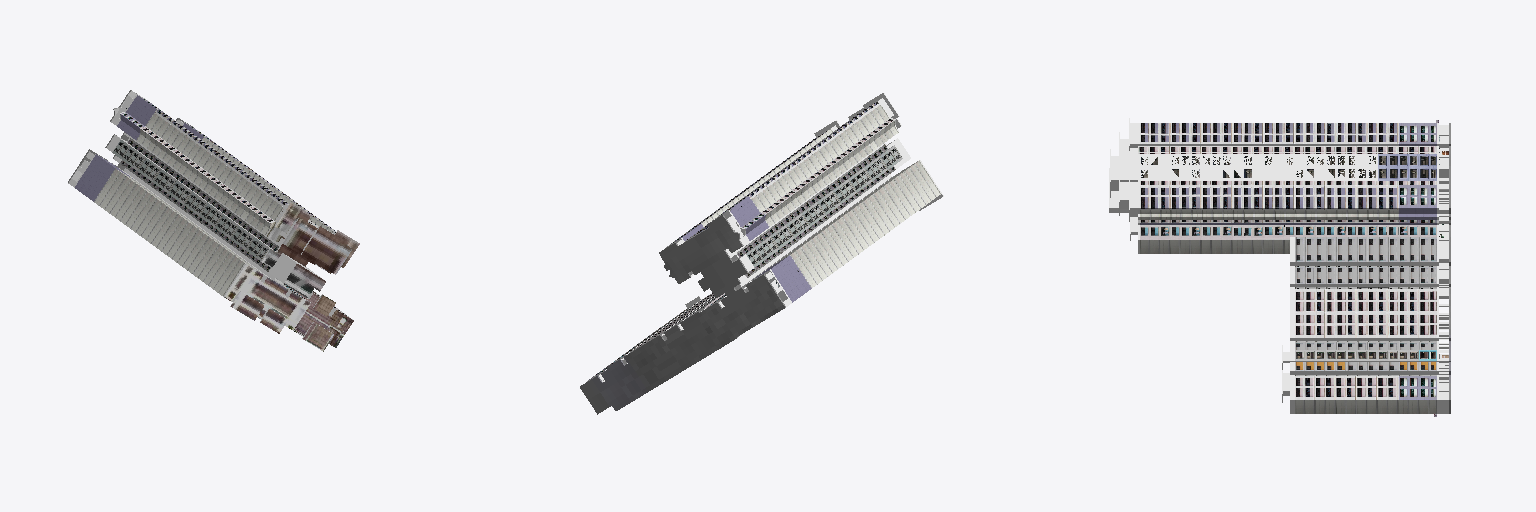
The picture shows the model from 3 angles: view 1: azimuth 30°, elevation 25°; view 2: azimuth 150°, elevation 25°; view 3: azimuth 270°, elevation 25°; orthographic projection.
Visible parts, largest first — view 1: polygon.821; view 2: polygon.821; view 3: polygon.821.
Part boxes in pixels (x1,y1,x2,y2): polygon.821: (68, 90, 359, 351); polygon.821: (580, 93, 943, 414); polygon.821: (1109, 118, 1450, 416).
Size of the model in its own units: 66.37 by 72.8 by 95.41.
1 materials, 1 textured.